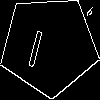I: (24, 20, 49, 68)
